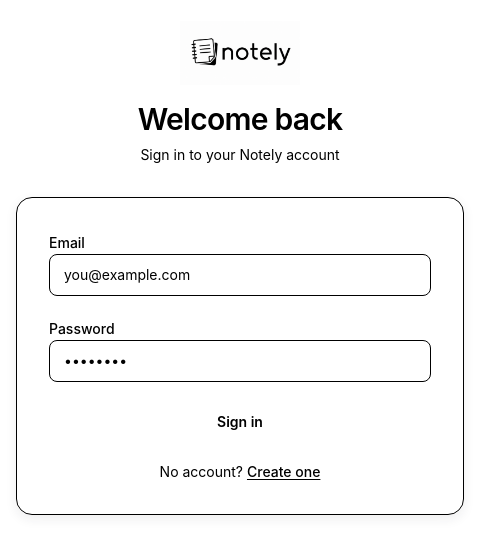
Test case: LoginPage › shows "Email is required" error when form is submitted with no email
Click the button "Sign in" at (240, 422), box [49, 402, 431, 442]
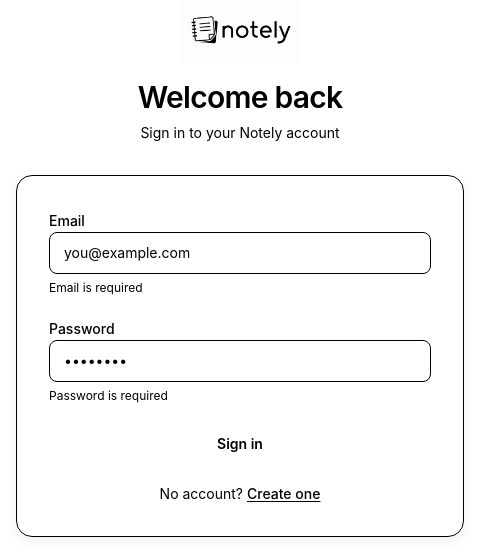
Expected: the text "Email is required" is shown, [49, 280, 143, 295]
